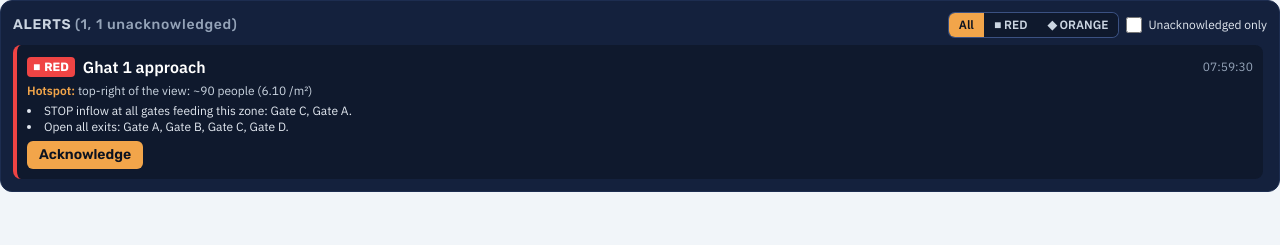
it: AlertFeed › shows why an acknowledgement failed
The image size is (1280, 245).
Click the button "Acknowledge" at (85, 155), box [27,141,143,169]
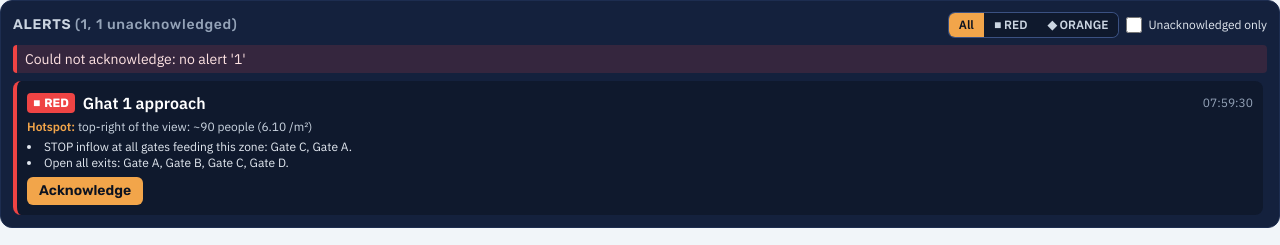
expect the message reads "Could not acknowledge: no alert '1'": met, box [25,50,246,68]
